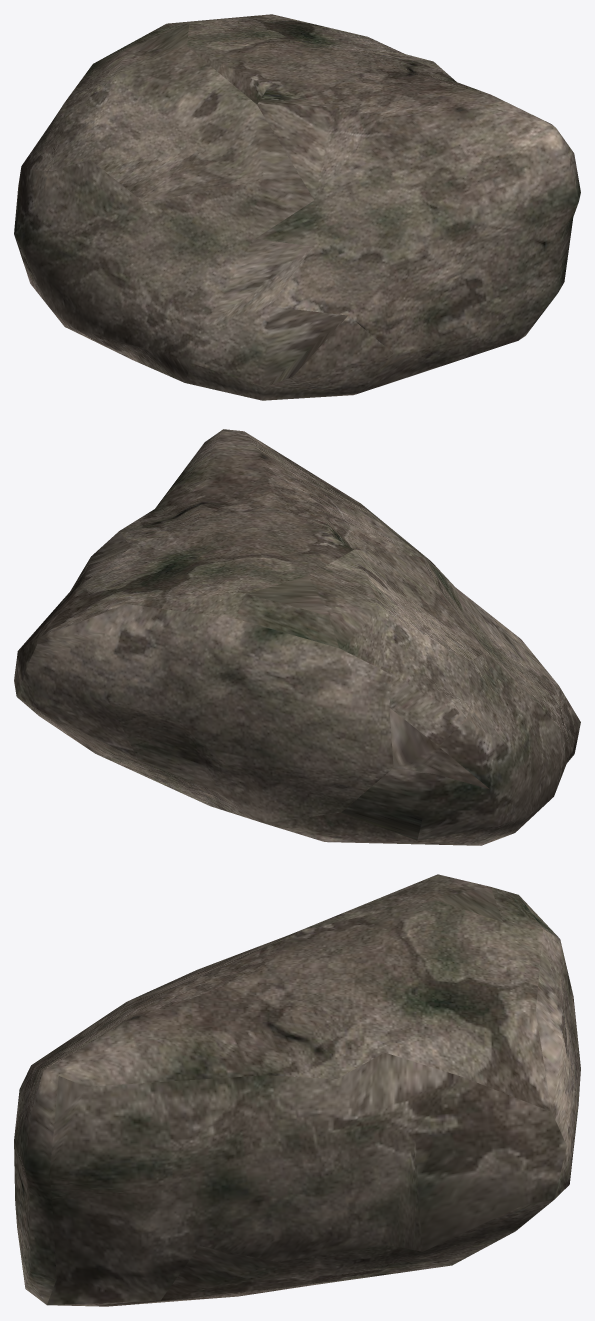
File: rock.fbx
The picture shows the model from 3 angles, top to bottom: view 1: azimuth 30°, elevation 25°; view 2: azimuth 150°, elevation 25°; view 3: azimuth 270°, elevation 25°; orthographic projection. The views are drawn at different scales.
Visible parts, largest first — view 1: Rock; view 2: Rock; view 3: Rock.
Part boxes in pixels (left/top/right/bottom): Rock: left=14, top=14, right=580, bottom=400; Rock: left=14, top=429, right=580, bottom=845; Rock: left=14, top=874, right=580, bottom=1306.
Bounding box in the file's own units: 184 × 105 × 168.
